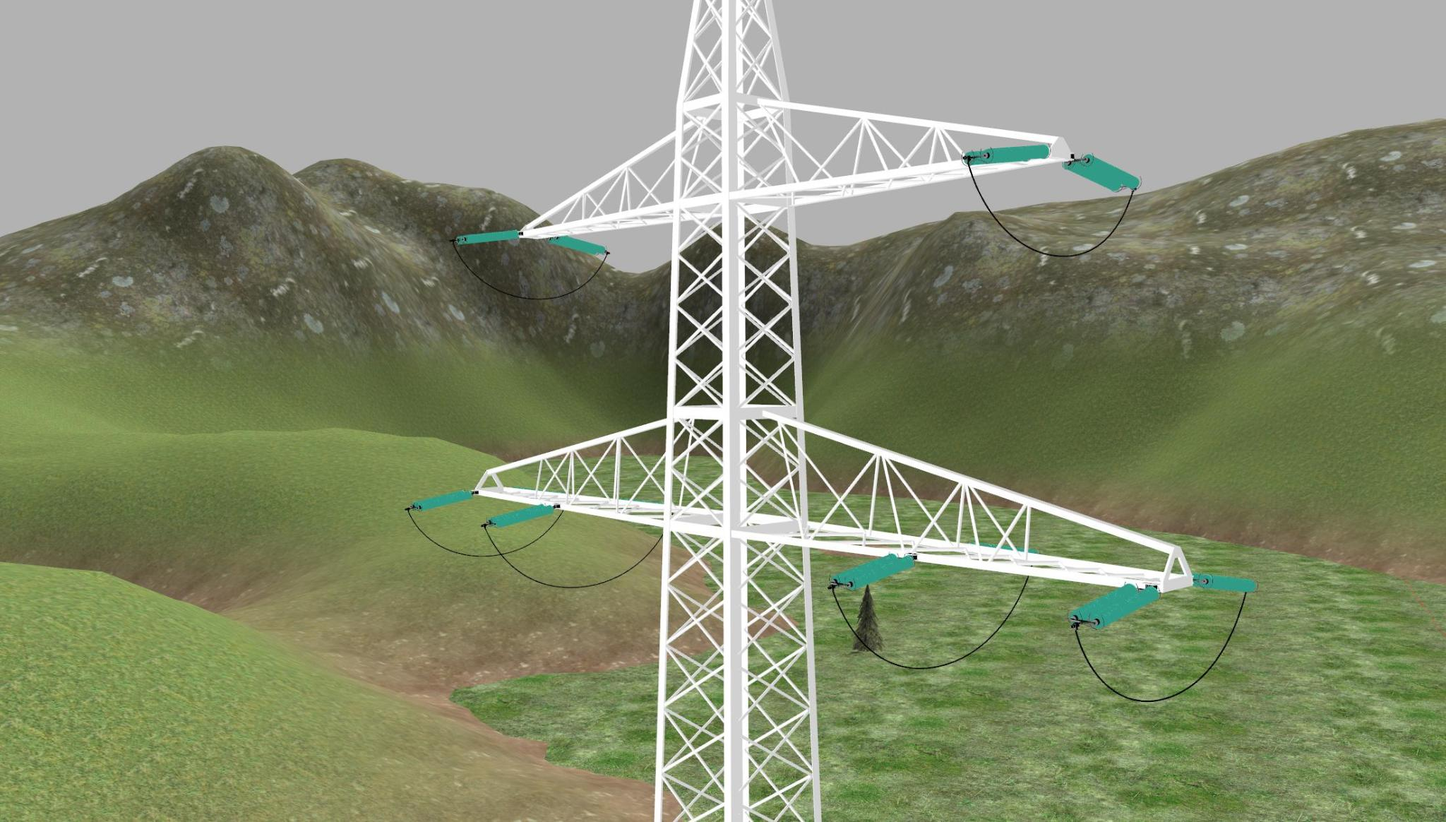tower: (470, 0, 1195, 822)
